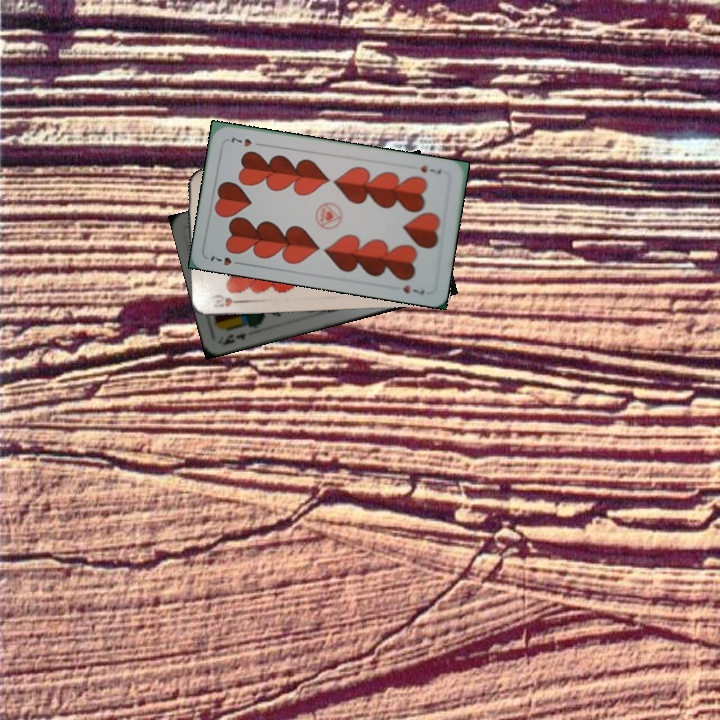EK: (217, 329, 249, 348)
H10: (209, 293, 246, 310)
H7: (207, 252, 245, 268), (417, 161, 444, 177)
